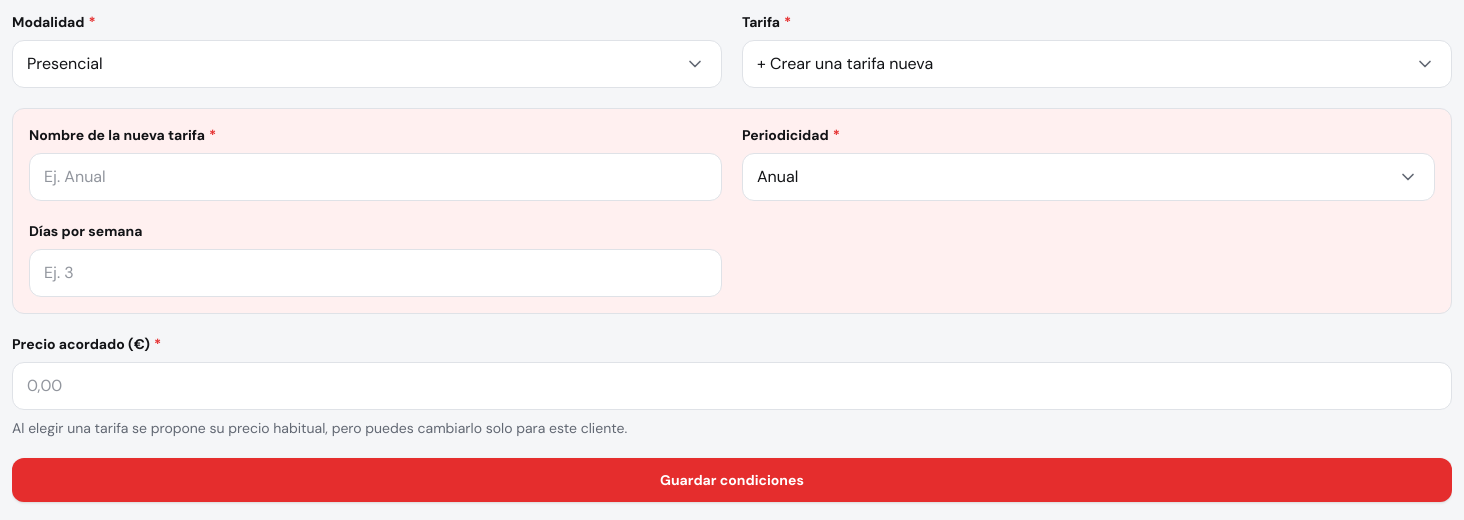
Test: formularios de condiciones comerciales › usa selectores internos en modalidad, tarifa y periodicidad
Expected: the dropdown labelled "tarifa" shows "Crear una tarifa nueva", 742,40 -> 1452,88
Expected: the dropdown named "Periodicidad" reads "Anual", 742,153 -> 1435,201
Click the dropdown named "Modalidad" at (65, 64), box 12,40 -> 722,88
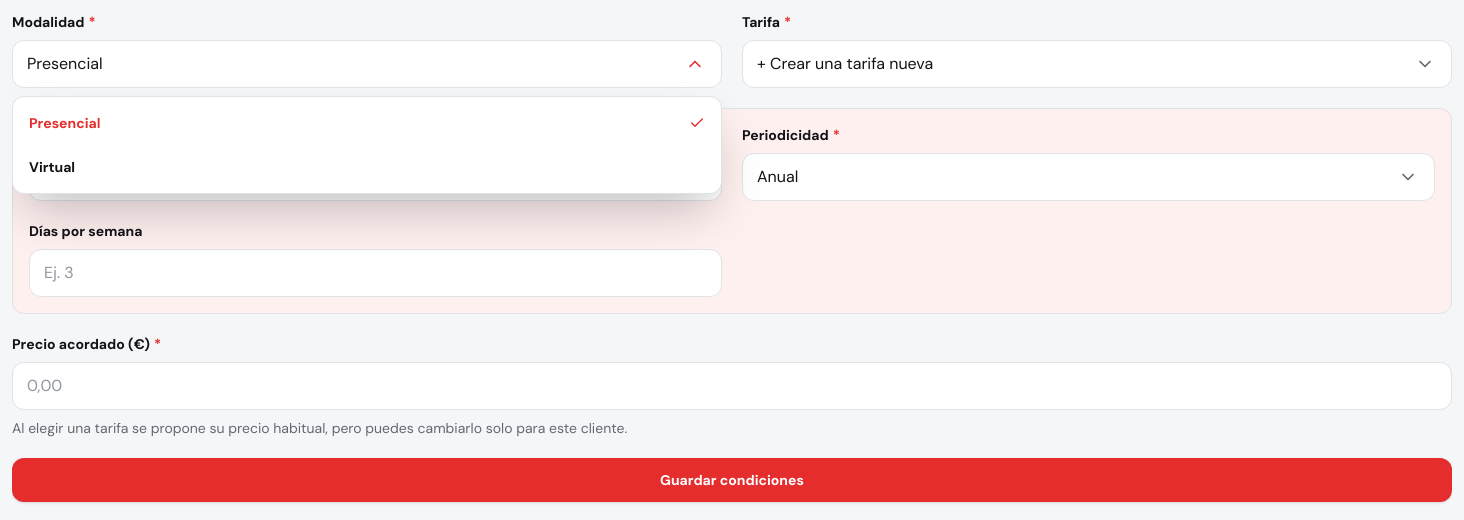
Click the option "Virtual" at (52, 167), box 13,145 -> 721,189
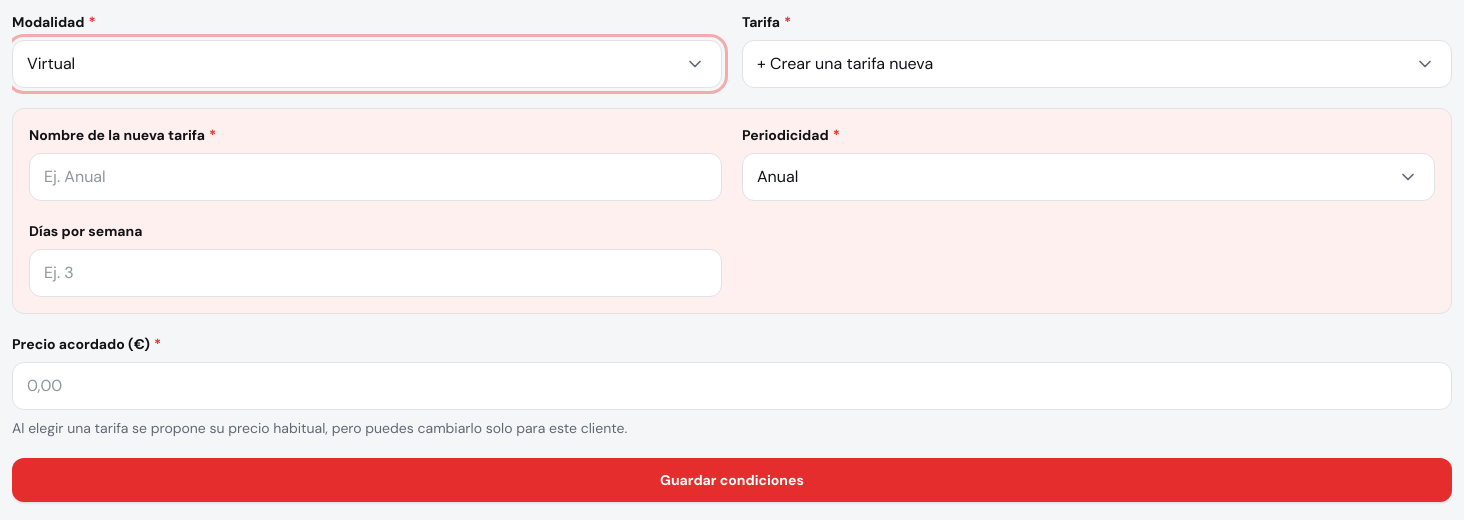
Result: the dropdown named "Modalidad" reads "Virtual" at 12,40 -> 722,88
